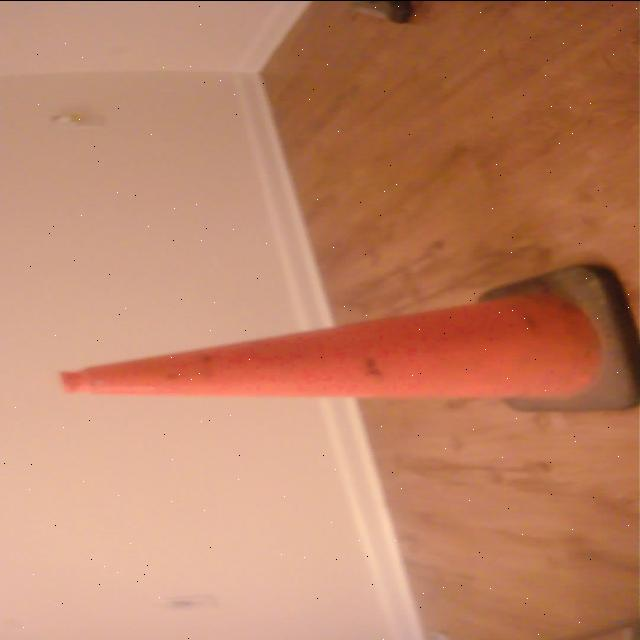traffic cone: (51, 257, 640, 420)
